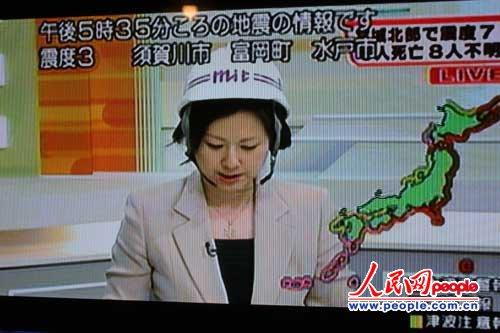helmet: (178, 42, 291, 120)
